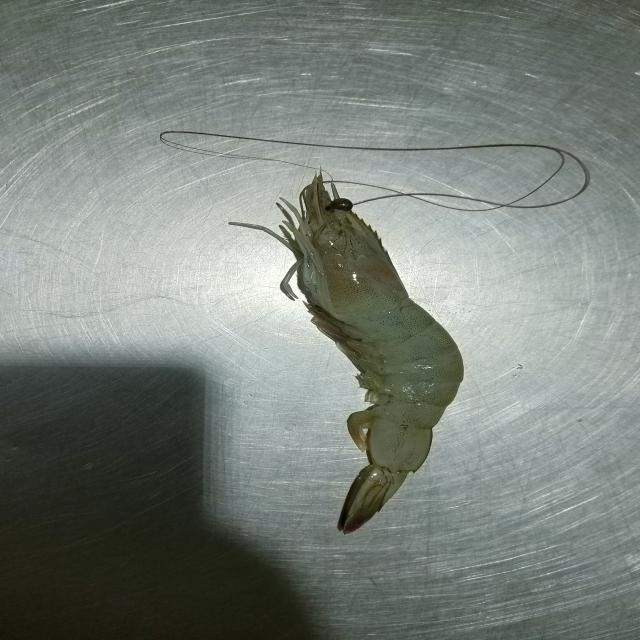shrimp: (248, 173, 463, 531)
